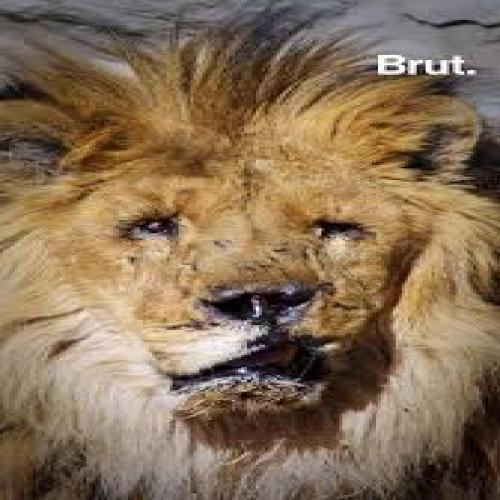lion-endangered: (0, 68, 500, 500)
